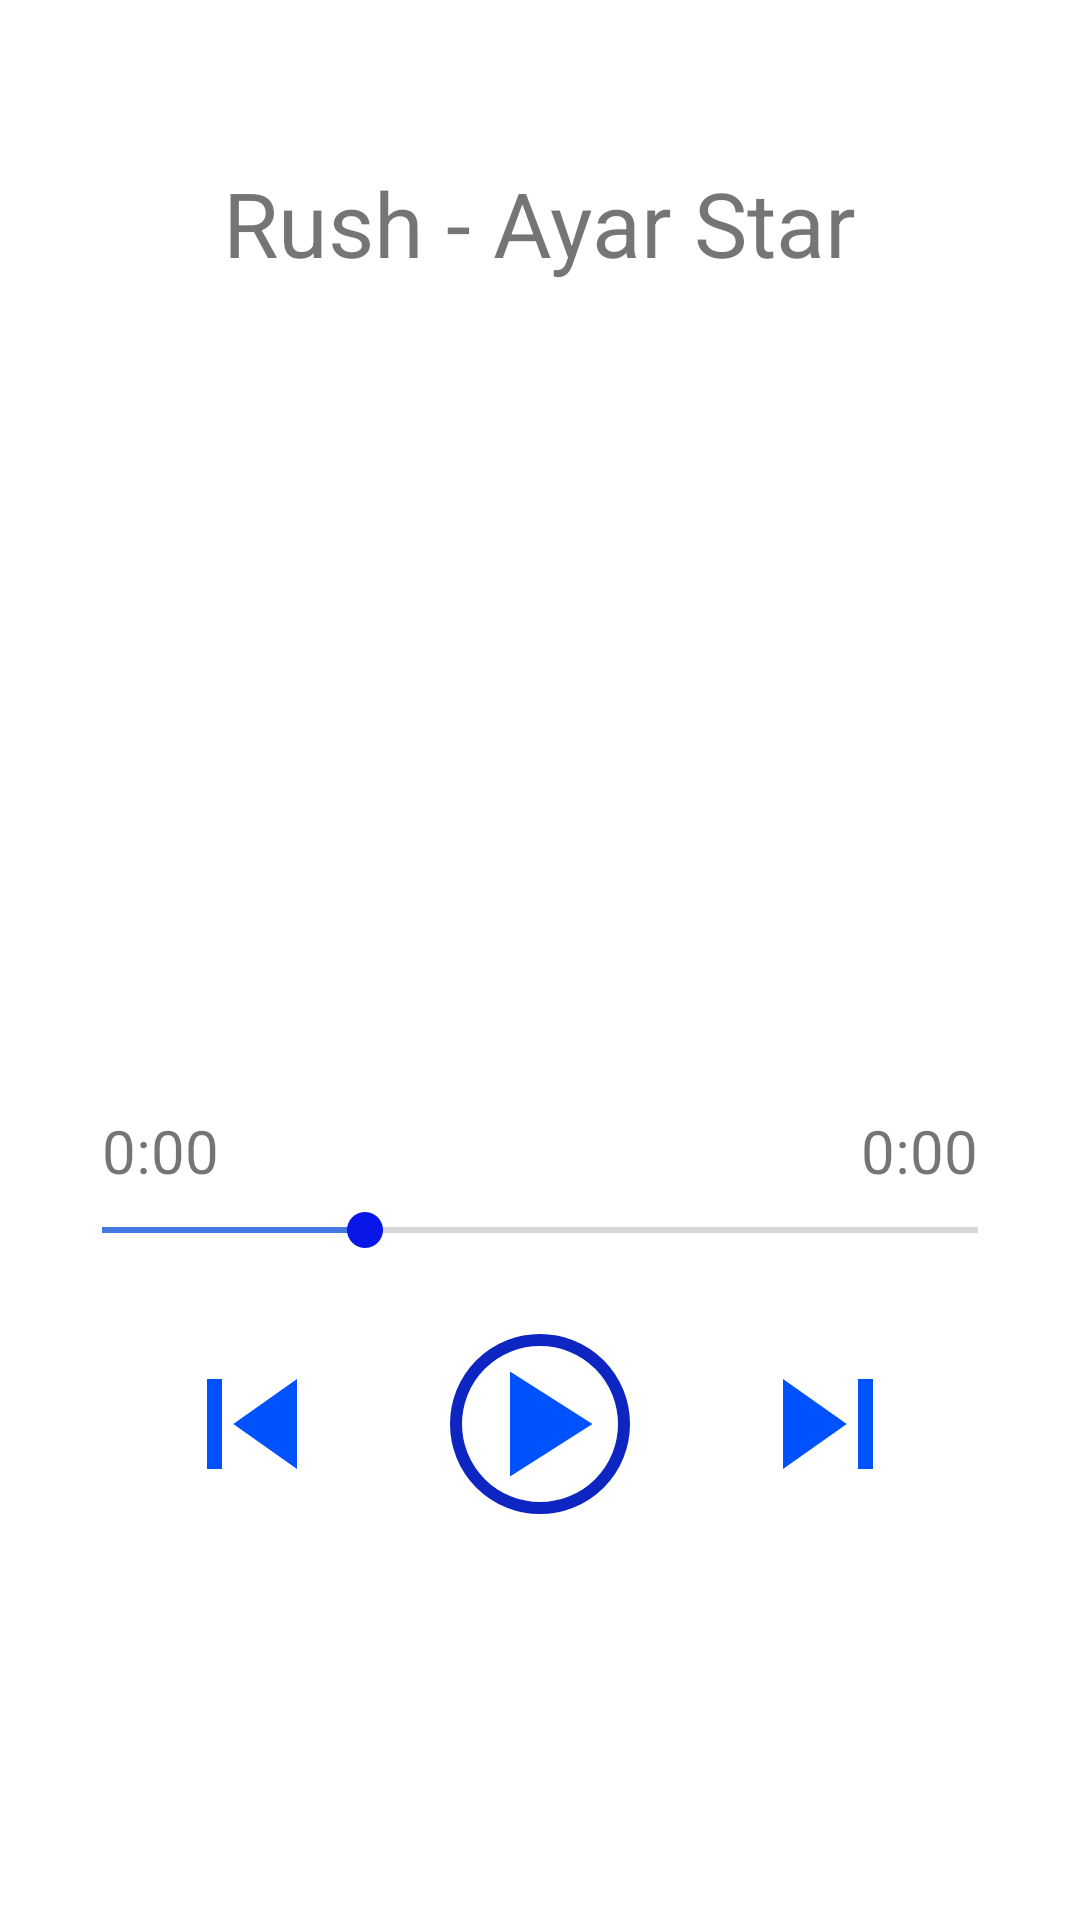

Named icons in this screenshot (1080px×1920px) and their centers, point (x, y):
next: point (828, 1424)
play: point (540, 1424)
previous: point (252, 1424)
